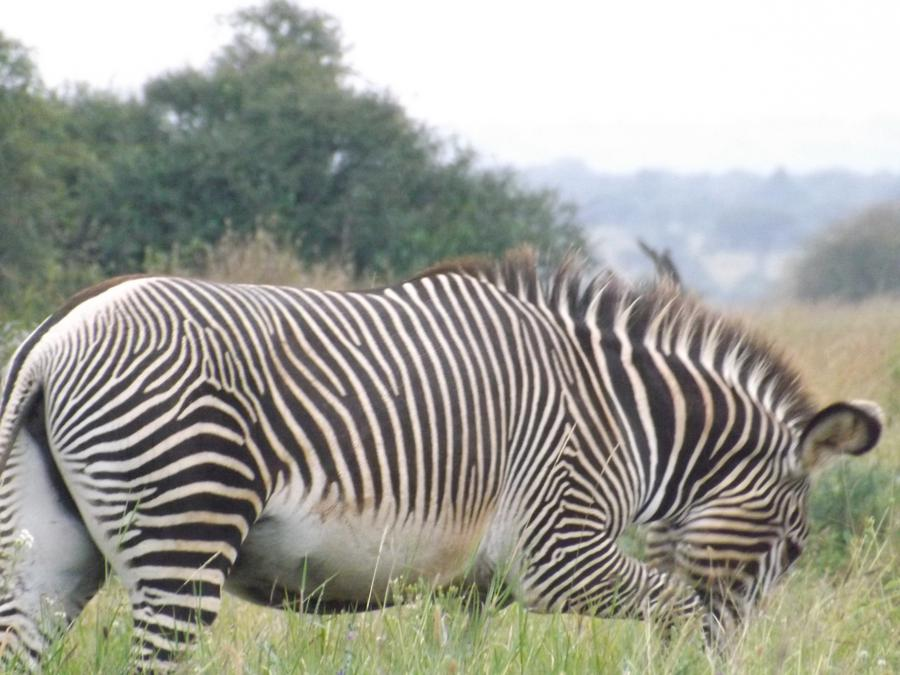zebra_grevys: (52, 284, 623, 543)
